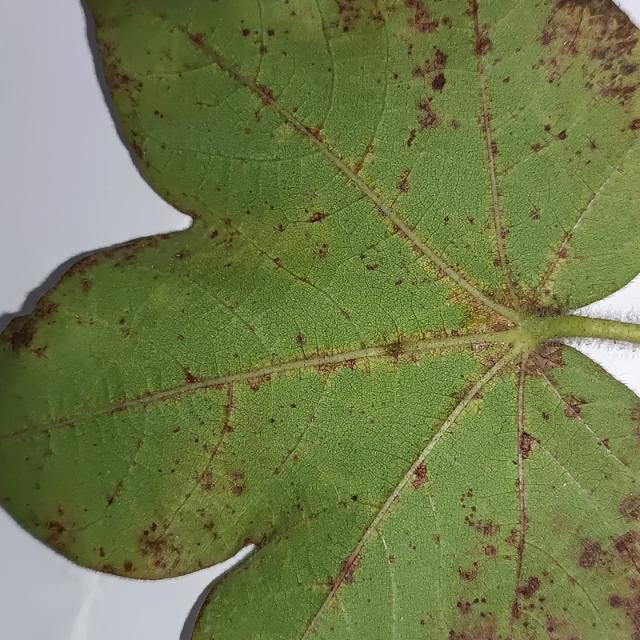Bacterial_Blight: (42, 230, 187, 289), (549, 174, 619, 279), (9, 391, 157, 440), (266, 376, 328, 489), (95, 371, 235, 419), (259, 96, 345, 168), (272, 254, 358, 324), (271, 1, 330, 78), (198, 384, 237, 495), (571, 522, 638, 584), (180, 136, 311, 165), (406, 239, 472, 294), (548, 5, 590, 70), (554, 331, 636, 363), (219, 294, 269, 346), (459, 342, 524, 382), (526, 354, 571, 409), (258, 506, 304, 556), (538, 228, 575, 283), (384, 525, 401, 636), (357, 183, 400, 225), (137, 528, 179, 570), (383, 163, 427, 203), (450, 608, 500, 640), (462, 504, 502, 541), (292, 204, 338, 234), (313, 354, 365, 378), (251, 0, 267, 75), (598, 73, 637, 103), (407, 4, 443, 36), (538, 121, 575, 149), (412, 53, 445, 84), (539, 612, 581, 634), (480, 315, 519, 338), (414, 98, 441, 131), (576, 538, 604, 568), (338, 551, 362, 585), (104, 474, 128, 507), (535, 343, 566, 368), (616, 493, 640, 525), (489, 410, 516, 438), (253, 81, 279, 108), (44, 387, 57, 435), (528, 302, 564, 318), (516, 575, 541, 598), (518, 430, 538, 458), (410, 461, 430, 489), (385, 338, 406, 359), (504, 529, 524, 549), (473, 33, 491, 55), (180, 208, 200, 225), (432, 48, 449, 68), (241, 535, 263, 550), (458, 566, 478, 582), (182, 368, 201, 384), (471, 341, 498, 352), (188, 31, 206, 47), (247, 376, 265, 392), (368, 499, 385, 515), (456, 599, 472, 616), (30, 345, 48, 359), (405, 129, 418, 148), (314, 245, 330, 259), (80, 277, 93, 294), (622, 63, 638, 76), (199, 478, 213, 492), (42, 446, 55, 459), (295, 333, 306, 345), (600, 438, 611, 450), (122, 560, 133, 572), (365, 262, 379, 271), (105, 495, 115, 506), (587, 139, 597, 150), (530, 209, 540, 220), (431, 533, 440, 545), (209, 229, 219, 239), (276, 223, 286, 232), (240, 28, 250, 37), (387, 554, 396, 564), (492, 258, 501, 267), (272, 257, 281, 265), (394, 278, 403, 286), (296, 574, 302, 585), (118, 317, 126, 325), (544, 124, 552, 132), (267, 29, 275, 37), (153, 110, 162, 117), (177, 334, 185, 341), (511, 458, 519, 465), (443, 216, 450, 224), (502, 76, 510, 83), (419, 619, 427, 626), (522, 620, 529, 628), (244, 127, 251, 134), (174, 253, 182, 259), (245, 209, 251, 215), (269, 204, 275, 210)
Cotton: (0, 0, 639, 639)
